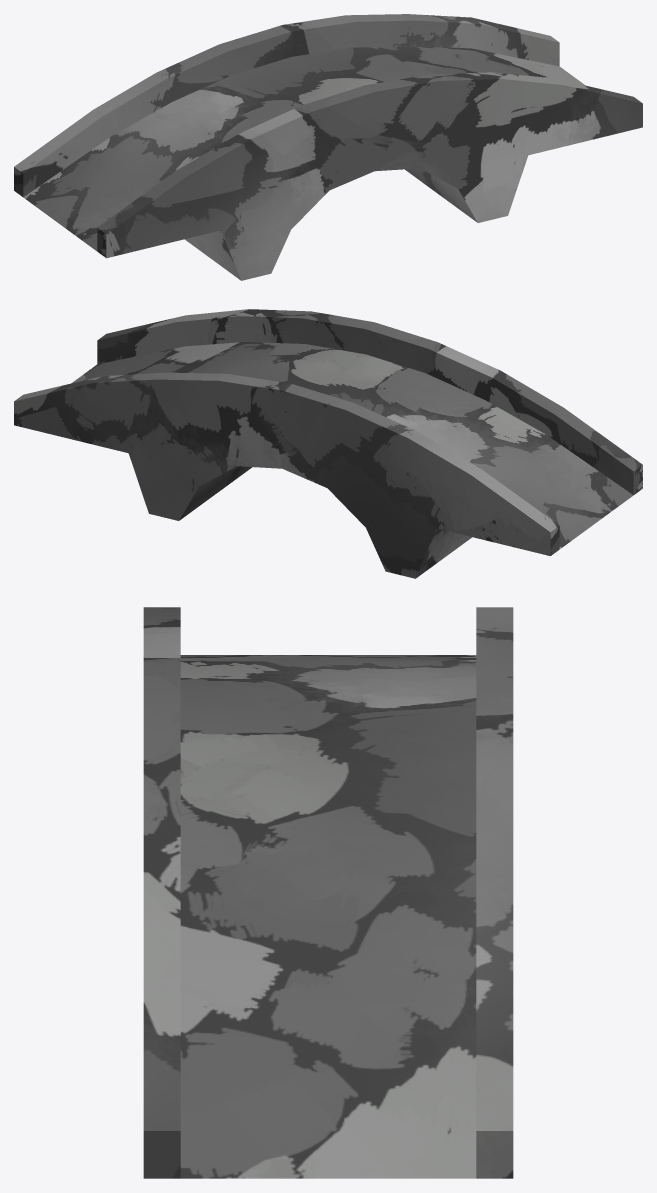
The model's file is Farm_Bridge_D_01_Unwrapped.fbx.
3 renders of one model, top to bottom at view 1: azimuth 30°, elevation 25°; view 2: azimuth 150°, elevation 25°; view 3: azimuth 270°, elevation 25°, orthographic. The views are drawn at different scales.
Parts seen in each view (by area): view 1: Null_2_fracturepart1, Null_2_fracturepart5, Null_2_fracturepart4, Null_2_fracturepart2, Null_2_fracturepart3; view 2: Null_2_fracturepart5, Null_2_fracturepart4, Null_2_fracturepart1, Null_2_fracturepart2, Null_2_fracturepart3; view 3: Null_2_fracturepart4, Null_2_fracturepart2, Null_2_fracturepart5, Null_2_fracturepart3, Null_2_fracturepart1.
Boxes of the visible parts, left/top/right/bottom form: Null_2_fracturepart1: left=60, top=92, right=374, bottom=264; Null_2_fracturepart5: left=14, top=19, right=319, bottom=223; Null_2_fracturepart4: left=405, top=15, right=642, bottom=222; Null_2_fracturepart2: left=312, top=14, right=495, bottom=179; Null_2_fracturepart3: left=165, top=74, right=389, bottom=280; Null_2_fracturepart5: left=245, top=379, right=595, bottom=578; Null_2_fracturepart4: left=14, top=309, right=255, bottom=520; Null_2_fracturepart1: left=375, top=322, right=642, bottom=522; Null_2_fracturepart2: left=142, top=309, right=358, bottom=485; Null_2_fracturepart3: left=318, top=319, right=491, bottom=554; Null_2_fracturepart4: left=143, top=867, right=513, bottom=1178; Null_2_fracturepart2: left=143, top=729, right=513, bottom=927; Null_2_fracturepart5: left=328, top=607, right=513, bottom=791; Null_2_fracturepart3: left=143, top=667, right=384, bottom=777; Null_2_fracturepart1: left=143, top=607, right=330, bottom=722.
Size of the model in its own units: 1341 by 374 by 400.
2 materials, 2 textured.
